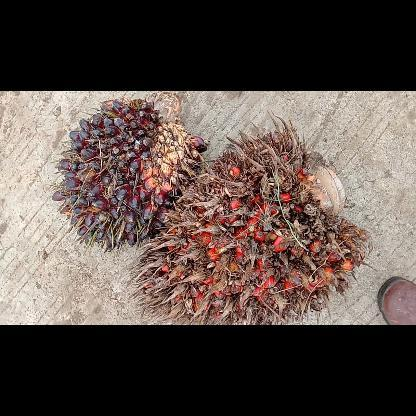TBS mentah: (51, 98, 207, 250)
Terlalu masak: (128, 112, 370, 324)
